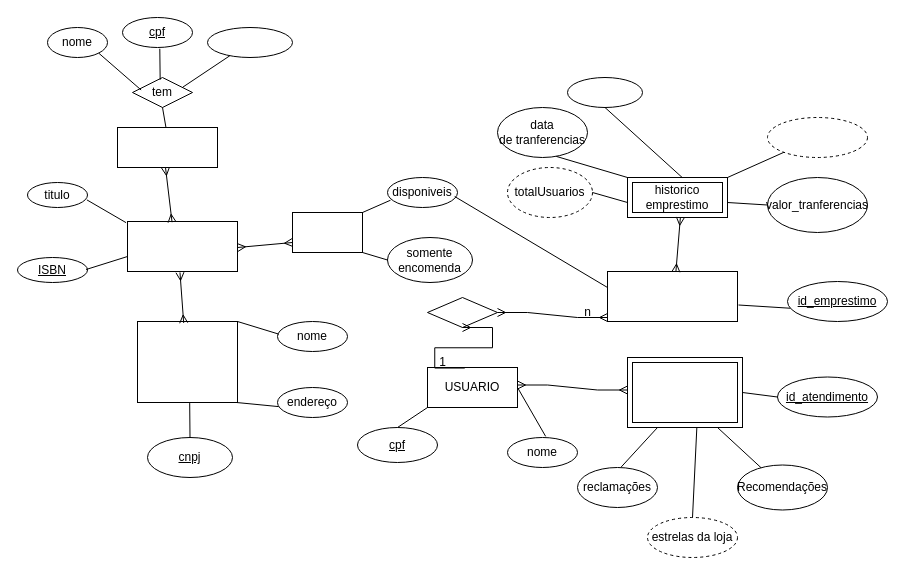
This 905x575 diagram has some shape labels left out. Here are the shapes that lost their labels. From the top down, the box of each, then its label:
(206, 26, 292, 58): nacionalidade
(566, 76, 642, 108): id_Historico
(116, 126, 218, 168): autor(es)
(766, 116, 868, 158): Lucro empresa
(126, 220, 238, 272): LIVRO
(292, 212, 362, 252): Estoque
(426, 296, 498, 328): FAZ
(606, 270, 738, 322): EMPRESTIMO
(136, 320, 238, 402): EDITORA
(626, 356, 742, 428): ATENDIMENTO
